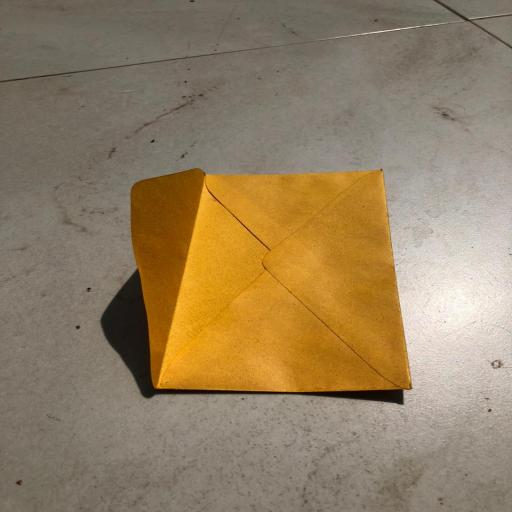waste: (114, 161, 438, 404)
